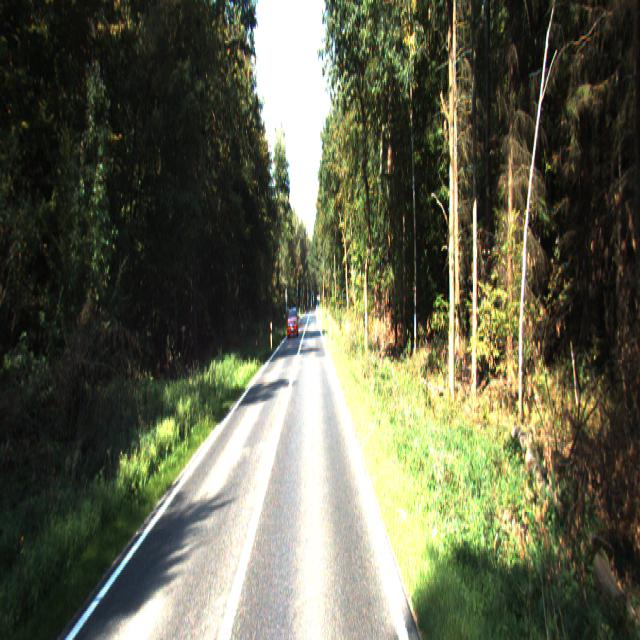Car: (286, 308, 299, 339)
